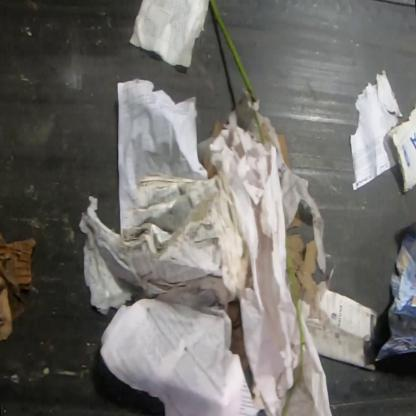cardboard: (0, 232, 41, 342), (387, 103, 415, 194), (284, 233, 318, 306), (275, 132, 292, 172), (288, 199, 305, 228)
